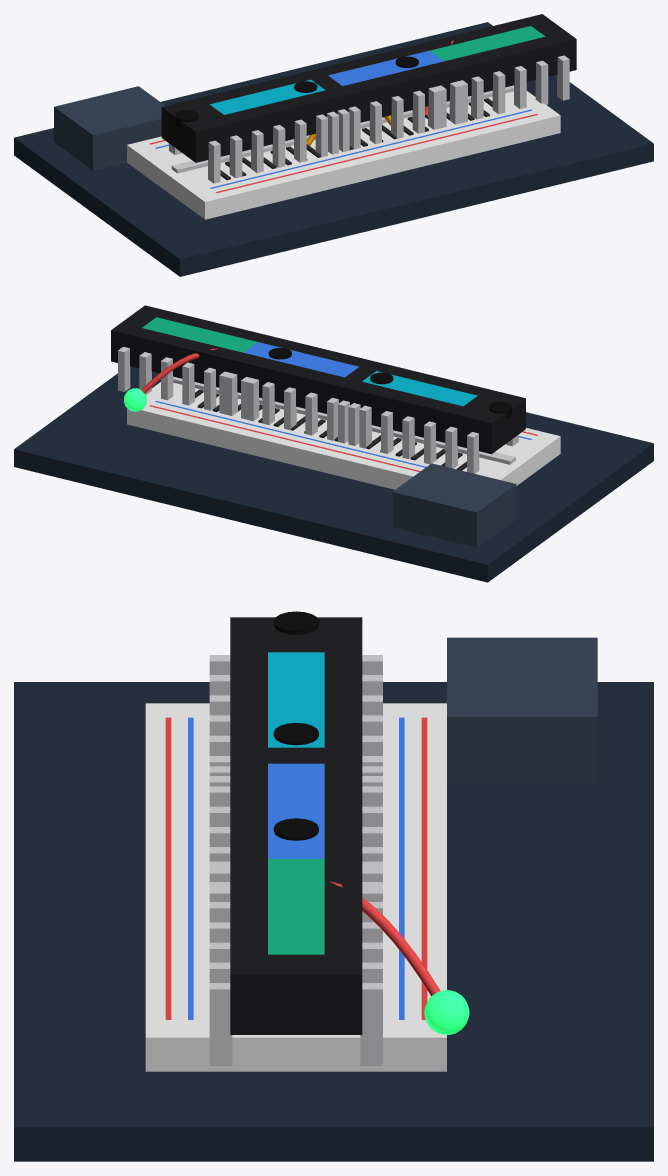
Rendered from ar-lab-station.glb.
3 views of the same model, one above another, from view 1: azimuth 30°, elevation 25°; view 2: azimuth 150°, elevation 25°; view 3: azimuth 270°, elevation 25° (orthographic). The views are drawn at different scales.
Size of the model in its own units: 0.56 by 0.1 by 0.34.
